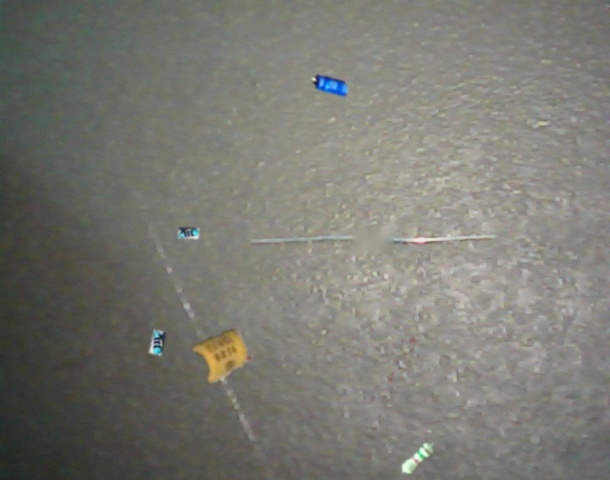capacitor: (192, 328, 252, 383), (312, 74, 348, 97)
resistor: (401, 443, 434, 474), (149, 330, 166, 356), (178, 227, 199, 239)
